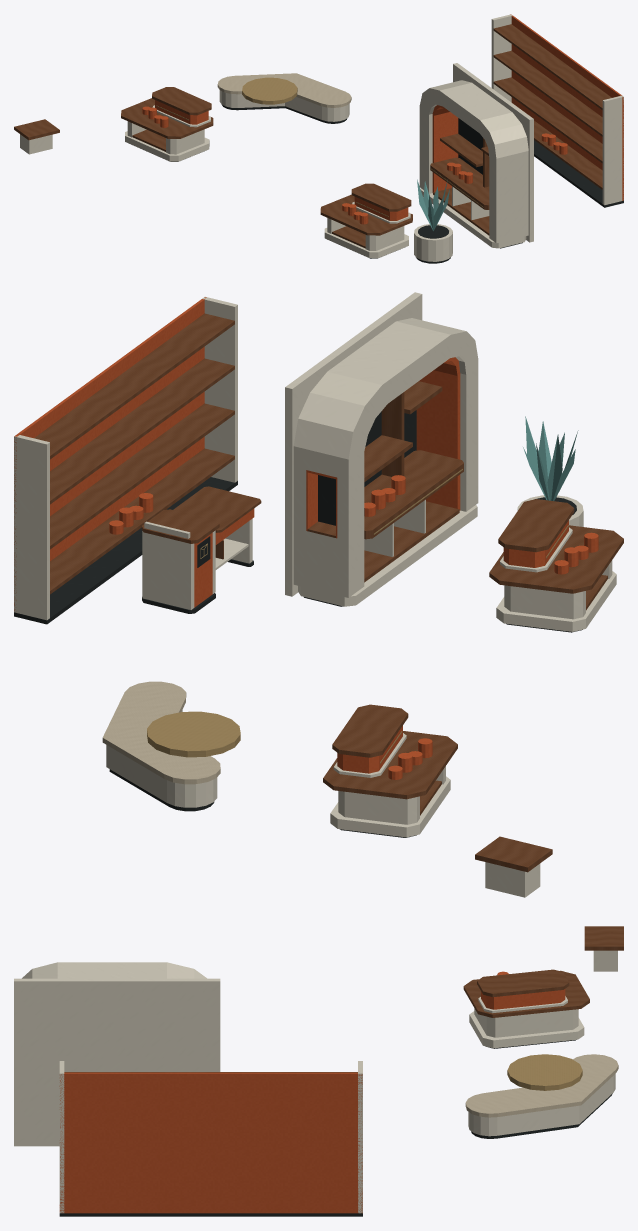
Rendered from SHOP_D09_P72_A262__fitout.glb.
3 views of the same model, one above another, from view 1: azimuth 30°, elevation 25°; view 2: azimuth 150°, elevation 25°; view 3: azimuth 270°, elevation 25° (orthographic). The views are drawn at different scales.
Parts seen in each view (by area): view 1: SHOP_D09_P72_A262__fitout__ivory_enamel, SHOP_D09_P72_A262__fitout__warm_walnut, SHOP_D09_P72_A262__fitout__retail_terracotta_enamel, SHOP_D09_P72_A262__fitout__dark_rubber, SHOP_D09_P72_A262__fitout__oatmeal_weave, SHOP_D09_P72_A262__fitout__champagne_metal, SHOP_D09_P72_A262__fitout__quiet_teal; view 2: SHOP_D09_P72_A262__fitout__ivory_enamel, SHOP_D09_P72_A262__fitout__warm_walnut, SHOP_D09_P72_A262__fitout__retail_terracotta_enamel, SHOP_D09_P72_A262__fitout__dark_rubber, SHOP_D09_P72_A262__fitout__oatmeal_weave, SHOP_D09_P72_A262__fitout__champagne_metal, SHOP_D09_P72_A262__fitout__quiet_teal; view 3: SHOP_D09_P72_A262__fitout__retail_terracotta_enamel, SHOP_D09_P72_A262__fitout__ivory_enamel, SHOP_D09_P72_A262__fitout__warm_walnut, SHOP_D09_P72_A262__fitout__oatmeal_weave, SHOP_D09_P72_A262__fitout__champagne_metal, SHOP_D09_P72_A262__fitout__dark_rubber.
Boxes of the visible parts, x1,y1,x2,y2 form: SHOP_D09_P72_A262__fitout__ivory_enamel: (20,14,623,261); SHOP_D09_P72_A262__fitout__warm_walnut: (14,24,611,248); SHOP_D09_P72_A262__fitout__retail_terracotta_enamel: (142,14,623,224); SHOP_D09_P72_A262__fitout__dark_rubber: (146,105,623,263); SHOP_D09_P72_A262__fitout__oatmeal_weave: (217,73,351,107); SHOP_D09_P72_A262__fitout__champagne_metal: (156,77,483,216); SHOP_D09_P72_A262__fitout__quiet_teal: (417,179,449,231); SHOP_D09_P72_A262__fitout__ivory_enamel: (14,292,616,897); SHOP_D09_P72_A262__fitout__warm_walnut: (34,313,623,872); SHOP_D09_P72_A262__fitout__retail_terracotta_enamel: (14,297,598,779); SHOP_D09_P72_A262__fitout__dark_rubber: (14,410,582,837); SHOP_D09_P72_A262__fitout__oatmeal_weave: (102,681,220,784); SHOP_D09_P72_A262__fitout__champagne_metal: (147,469,568,763); SHOP_D09_P72_A262__fitout__quiet_teal: (523,416,578,500); SHOP_D09_P72_A262__fitout__retail_terracotta_enamel: (59,971,565,1213); SHOP_D09_P72_A262__fitout__ivory_enamel: (14,950,617,1213); SHOP_D09_P72_A262__fitout__warm_walnut: (64,926,623,1072); SHOP_D09_P72_A262__fitout__oatmeal_weave: (465,1054,618,1117); SHOP_D09_P72_A262__fitout__champagne_metal: (507,1054,582,1090); SHOP_D09_P72_A262__fitout__dark_rubber: (59,1039,612,1216).
Size of the model in its own units: 10.25 by 3 by 10.05.
7 materials, 6 textured.
